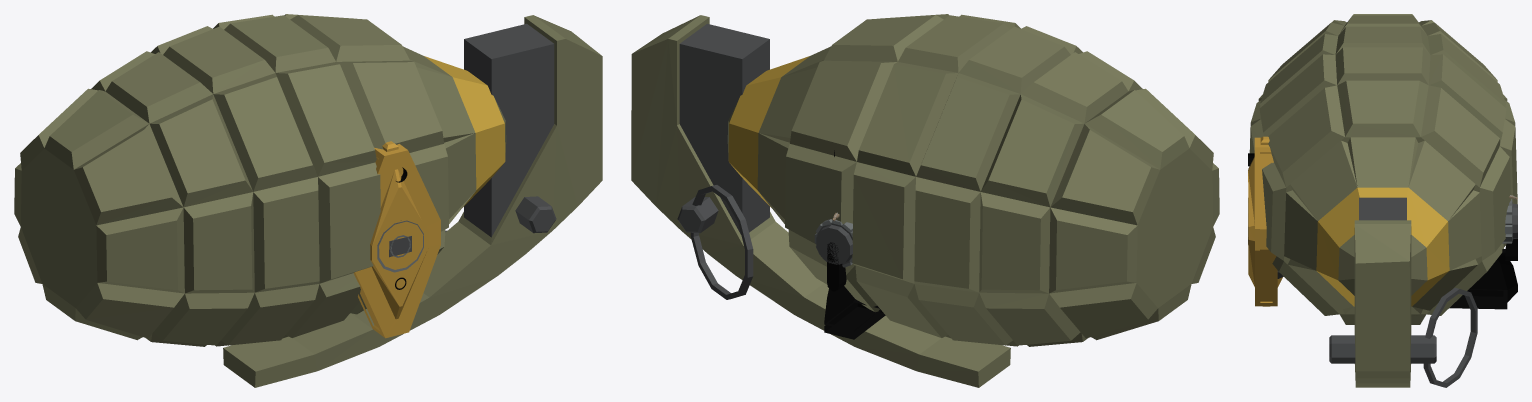
Rendered from r32_waffen.glb.
The picture shows the model from 3 angles, left to right: view 1: azimuth 30°, elevation 25°; view 2: azimuth 150°, elevation 25°; view 3: azimuth 270°, elevation 25°; orthographic projection. The views are drawn at different scales.
Visible parts, largest first — view 1: granate, hammer; view 2: granate, pistole, taschenlampe, sturmgewehr; view 3: granate, hammer, pistole, taschenlampe, sturmgewehr.
Boxes of the visible parts, <box> form: granate: <box>14,14,602,387</box>; hammer: <box>353,141,440,338</box>; granate: <box>631,14,1219,387</box>; pistole: <box>824,150,885,339</box>; taschenlampe: <box>814,219,852,267</box>; sturmgewehr: <box>827,242,846,291</box>; granate: <box>1249,14,1517,387</box>; hammer: <box>1248,136,1282,306</box>; pistole: <box>1248,153,1517,309</box>; taschenlampe: <box>1248,199,1517,244</box>; sturmgewehr: <box>1500,238,1517,260</box>.
Size of the model in its own units: 1.96 by 1.18 by 1.
